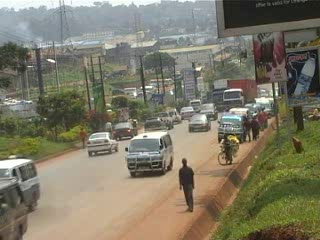Car: (84, 128, 120, 159), (112, 119, 139, 143), (186, 113, 213, 134), (141, 115, 169, 135), (198, 103, 220, 119), (178, 105, 196, 121)
